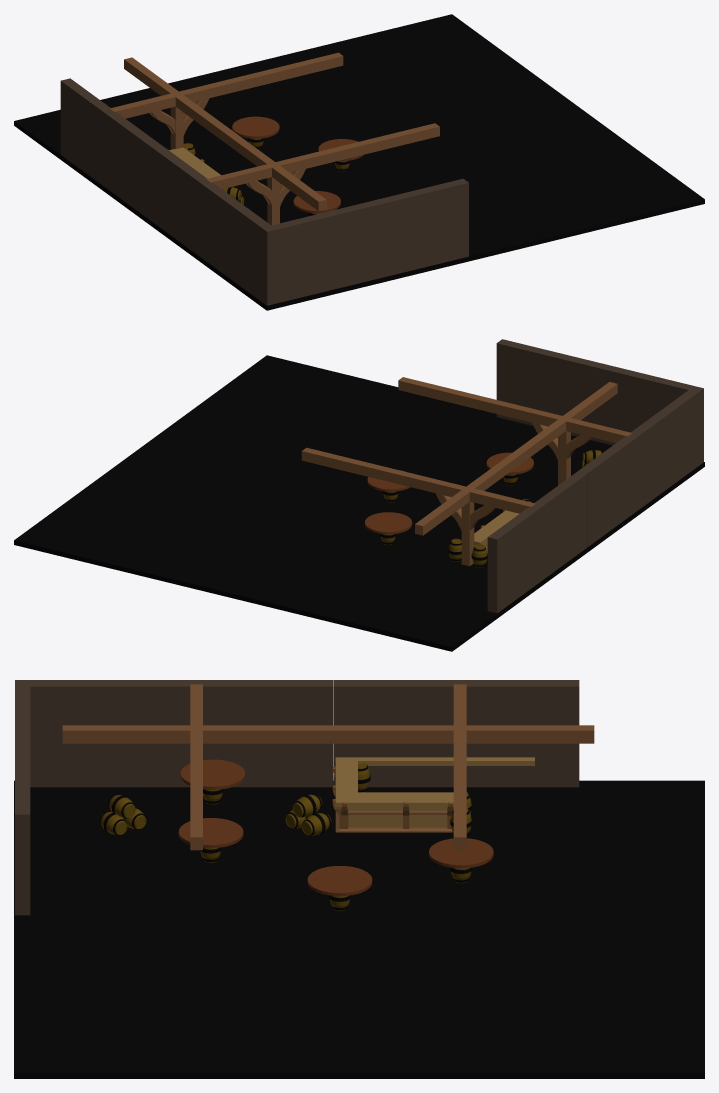
Rendered from simple-tavern.glb.
The picture shows the model from 3 angles, top to bottom: view 1: azimuth 30°, elevation 25°; view 2: azimuth 150°, elevation 25°; view 3: azimuth 270°, elevation 25°; orthographic projection. The views are drawn at different scales.
Visible parts, largest first — view 1: BASE, Cube.003, Cube.002, Cube.013, Cube.001, Cube.015, Cylinder.007, Cube.007, Cylinder.011; view 2: BASE, Cube.003, Cube.002, Cube.013, Cube.015, Cube.001, Cylinder.007, Cube.007; view 3: BASE, Cube.002, Cube.013, Cube.015, Cube.001, Cube.007, Cube.003, Cylinder.009, Cylinder.007, Cylinder.013, Cylinder.011, Cube.009.
Boxes of the visible parts, bbox=[...] form: BASE: bbox=[14, 14, 704, 310]; Cube.003: bbox=[263, 178, 468, 305]; Cube.002: bbox=[150, 144, 276, 305]; Cube.013: bbox=[60, 78, 159, 219]; Cube.001: bbox=[205, 123, 439, 225]; Cube.015: bbox=[109, 52, 343, 149]; Cylinder.007: bbox=[232, 116, 279, 138]; Cube.007: bbox=[169, 147, 220, 178]; Cylinder.011: bbox=[293, 191, 340, 213]; BASE: bbox=[14, 355, 704, 651]; Cube.003: bbox=[496, 339, 702, 445]; Cube.002: bbox=[578, 386, 703, 547]; Cube.013: bbox=[487, 471, 587, 613]; Cube.015: bbox=[301, 447, 535, 566]; Cube.001: bbox=[398, 377, 632, 485]; Cylinder.007: bbox=[365, 512, 412, 534]; Cube.007: bbox=[474, 510, 519, 552]; BASE: bbox=[14, 780, 704, 1078]; Cube.002: bbox=[15, 680, 332, 787]; Cube.013: bbox=[333, 680, 579, 787]; Cube.015: bbox=[326, 684, 594, 850]; Cube.001: bbox=[62, 684, 330, 850]; Cube.007: bbox=[335, 757, 534, 827]; Cube.003: bbox=[15, 680, 30, 915]; Cylinder.009: bbox=[307, 866, 372, 896]; Cylinder.007: bbox=[429, 838, 493, 868]; Cylinder.013: bbox=[180, 759, 245, 789]; Cylinder.011: bbox=[178, 818, 243, 848]; Cube.009: bbox=[332, 766, 453, 828].
Size of the model in its own units: 30.48 by 5.25 by 30.48.
